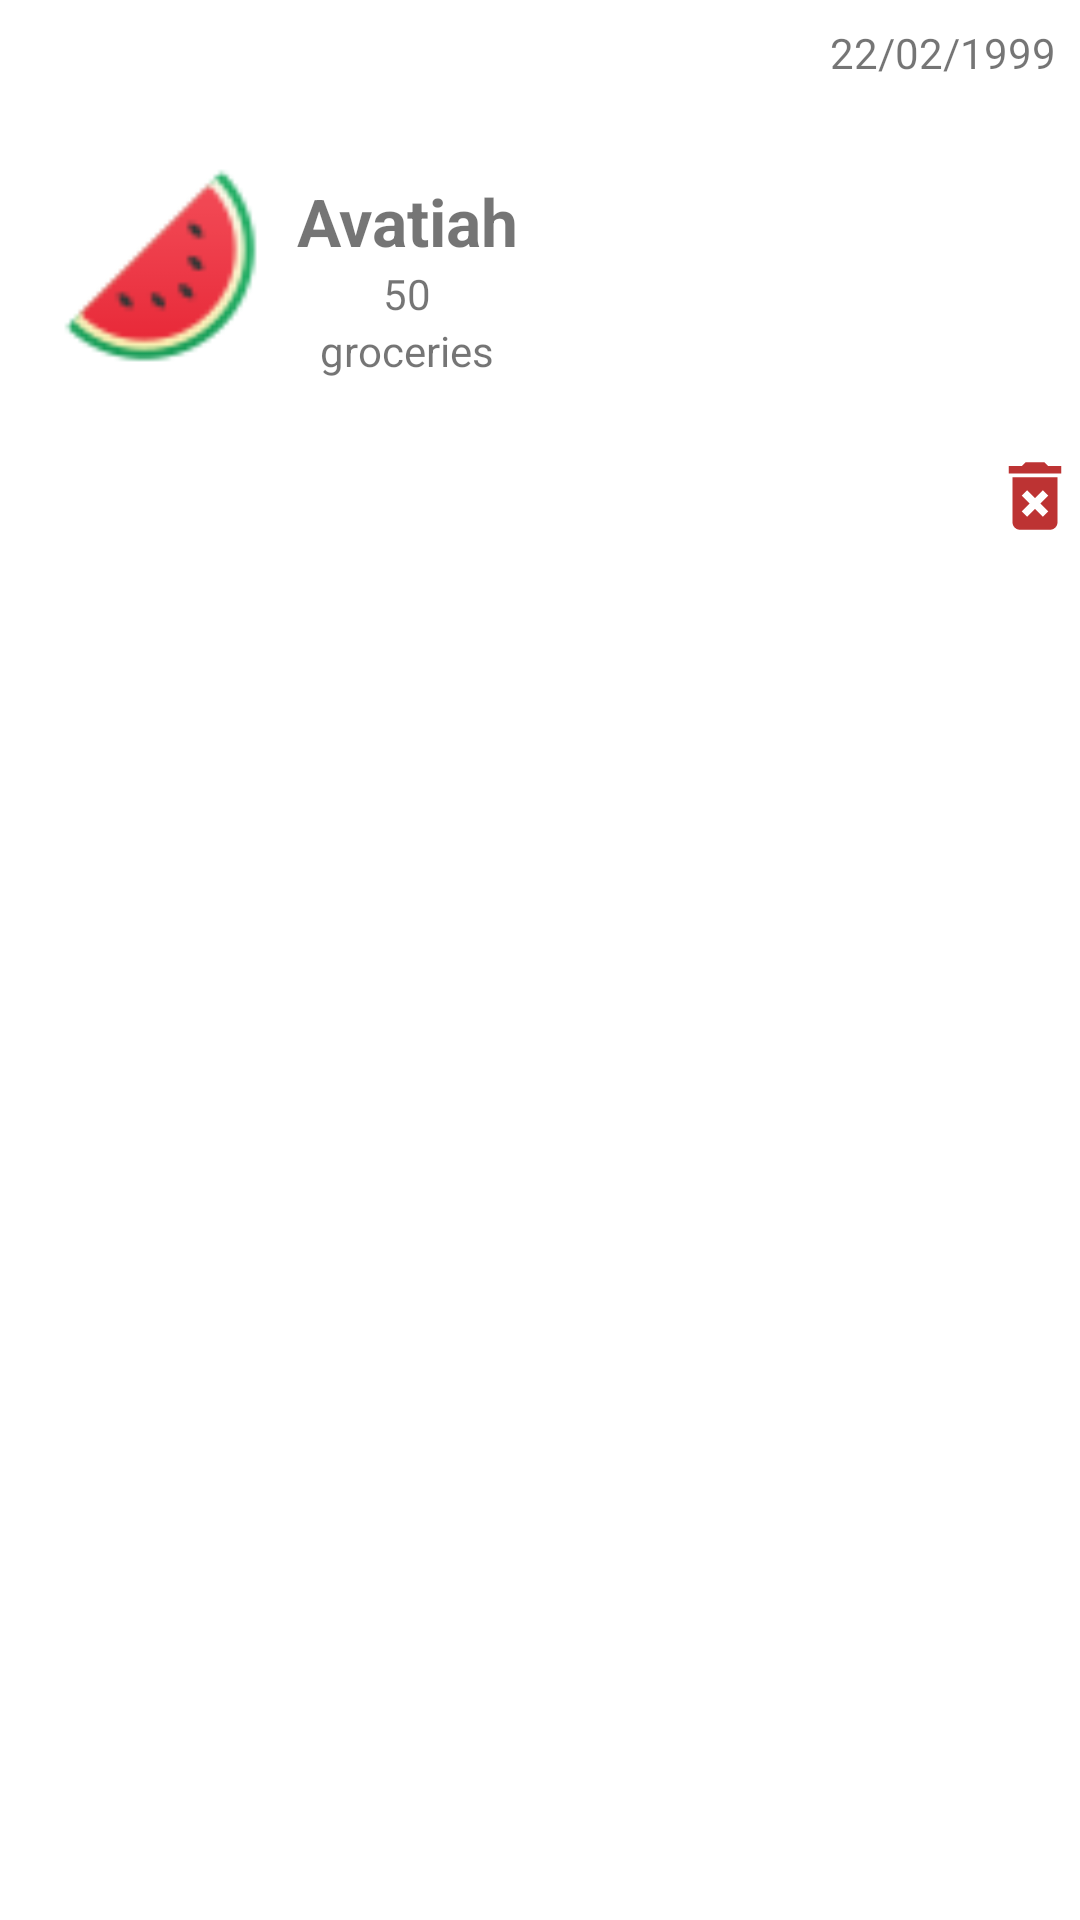

Where icons sit on this 1080×1920 app screen, as (x1, y1, x2, y2):
delete forever: (1008, 462, 1062, 530)
watermelon: (65, 170, 257, 362)
